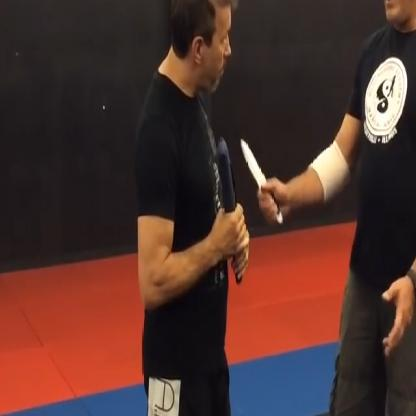knife: (236, 130, 286, 231)
